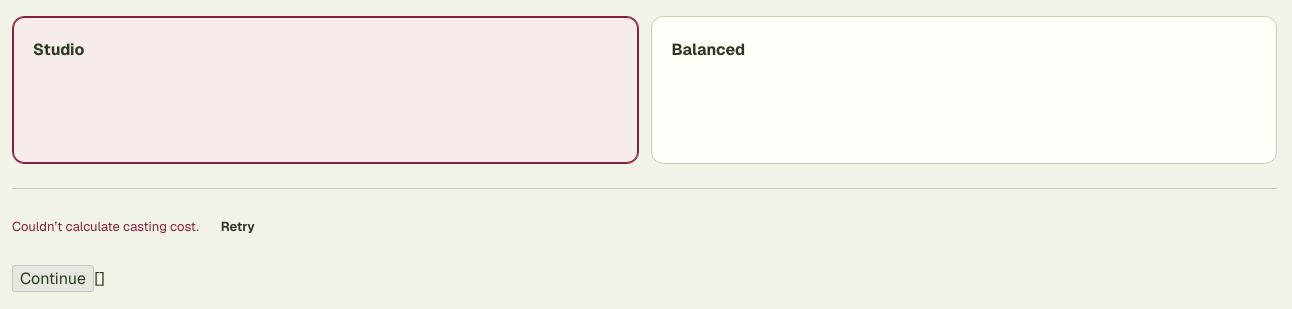
it: CastingChoice › keeps catalog choices usable when the first quote fails
The width and height of the screenshot is (1292, 309).
Expected: the message "Couldn’t calculate casting cost. Retry" is shown, left=12, top=209, right=269, bottom=245
Expected: the button "Continue" is disabled, left=12, top=265, right=94, bottom=292
Click the button "Balanced".
click(708, 50)  # box left=650, top=16, right=1277, bottom=164
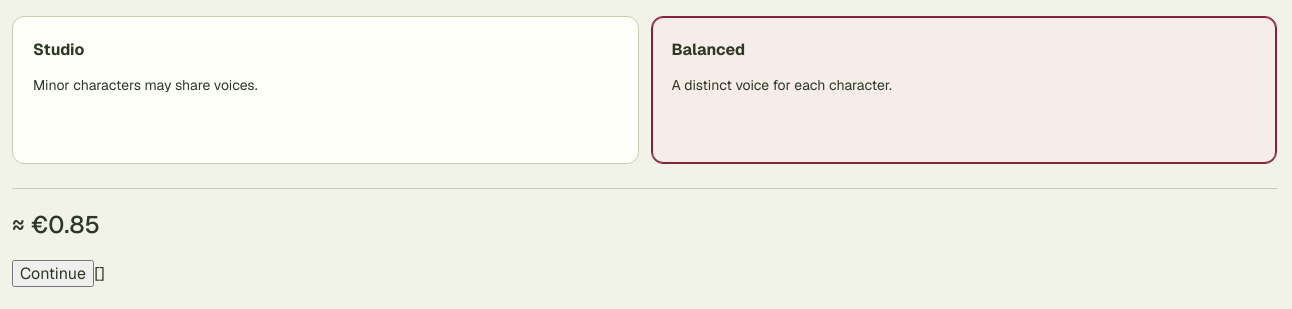
Now the button "Continue" is enabled, box left=12, top=260, right=94, bottom=287
